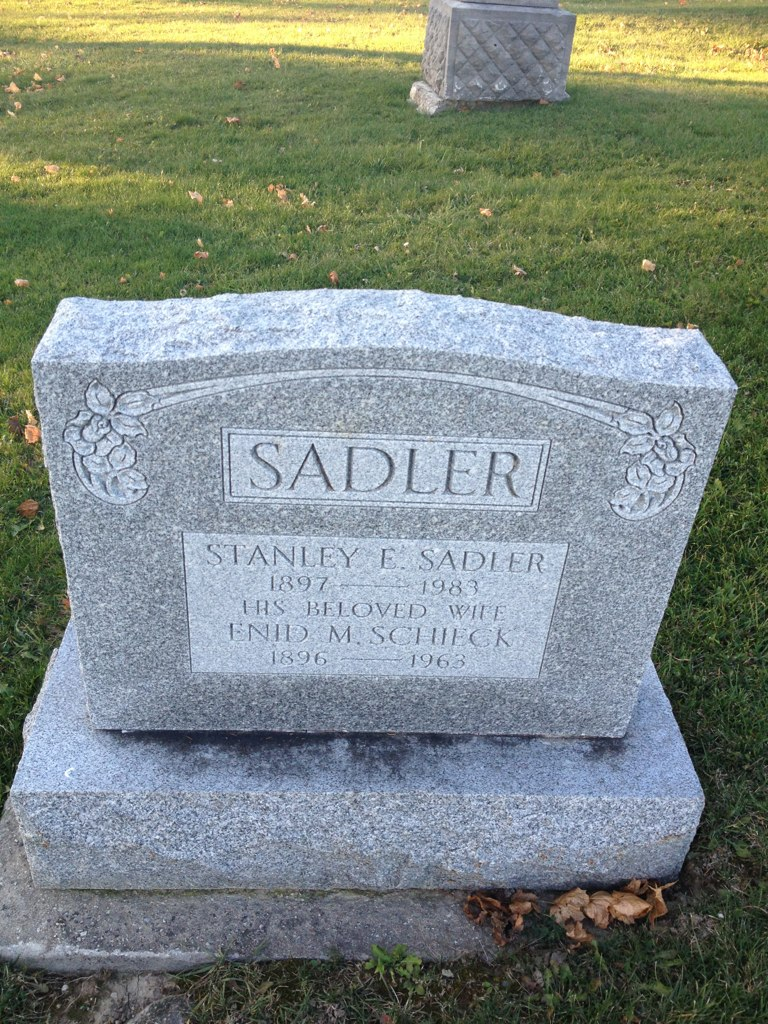upright: (9, 294, 738, 905)
